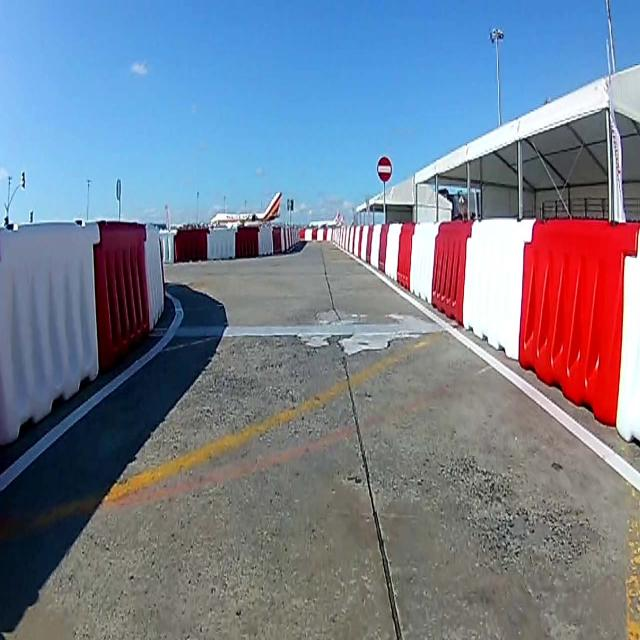girisyok: (377, 155, 393, 182)
